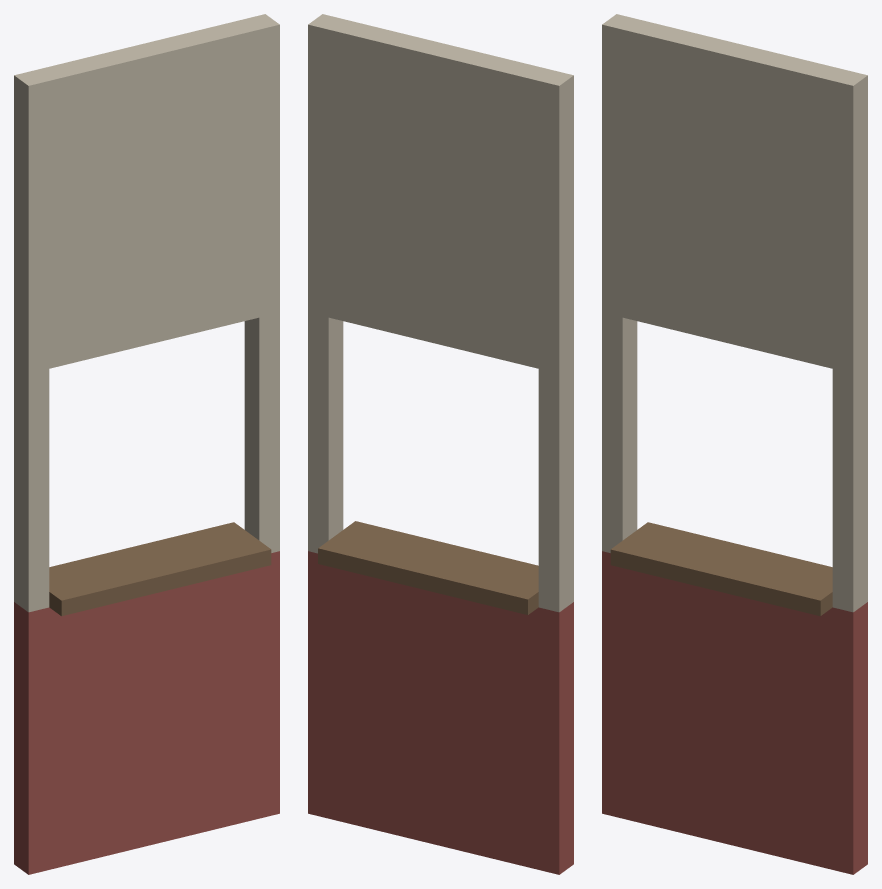
File: Mesh_Wall2Colors_D2.fbx
The picture shows the model from 3 angles, left to right: view 1: azimuth 30°, elevation 25°; view 2: azimuth 150°, elevation 25°; view 3: azimuth 330°, elevation 25°; orthographic projection.
Parts seen in each view (by area): view 1: Mesh_Wall2Colors_D2; view 2: Mesh_Wall2Colors_D2; view 3: Mesh_Wall2Colors_D2.
Part boxes in pixels (x1=…): Mesh_Wall2Colors_D2: x1=14, y1=14, x2=279, y2=874; Mesh_Wall2Colors_D2: x1=308, y1=14, x2=573, y2=874; Mesh_Wall2Colors_D2: x1=602, y1=14, x2=867, y2=874.
Bounding box in the file's own units: 1 × 3 × 0.2574.
